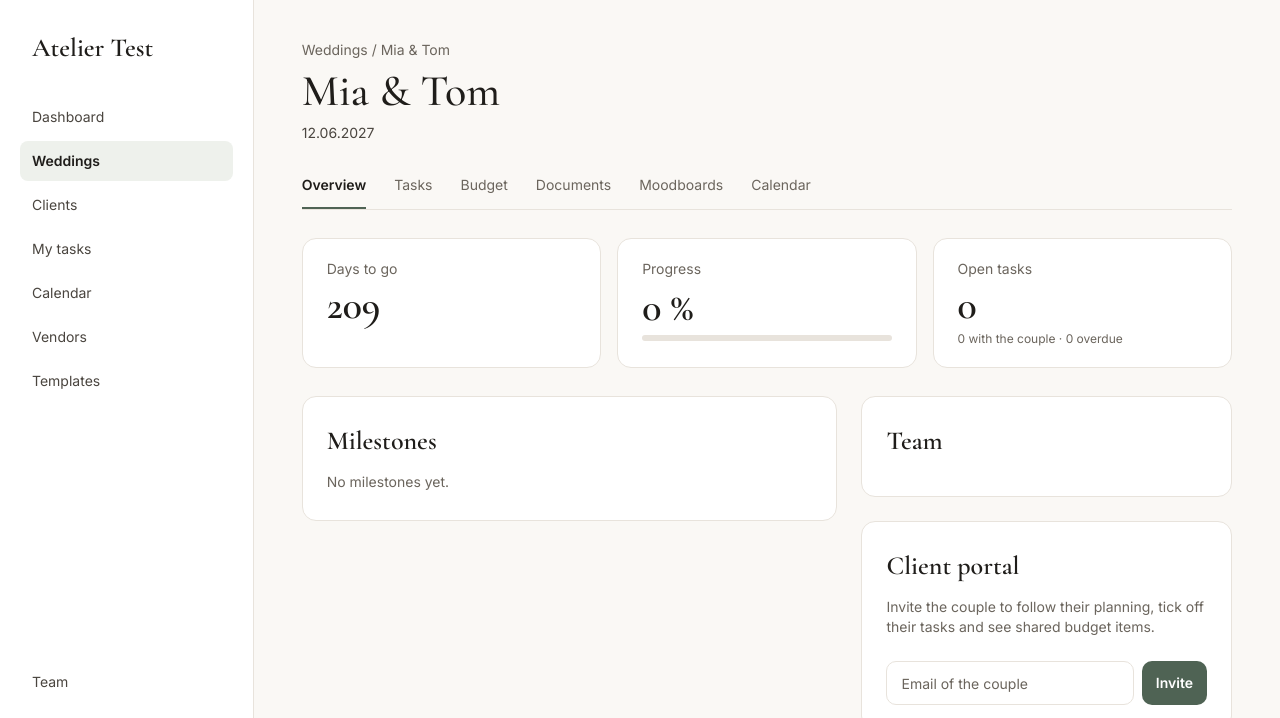
Test: invites the couple from the wedding overview
In the field labelled "Email of the couple": (1010, 683) [886, 661, 1134, 705], type "mia@example.com"
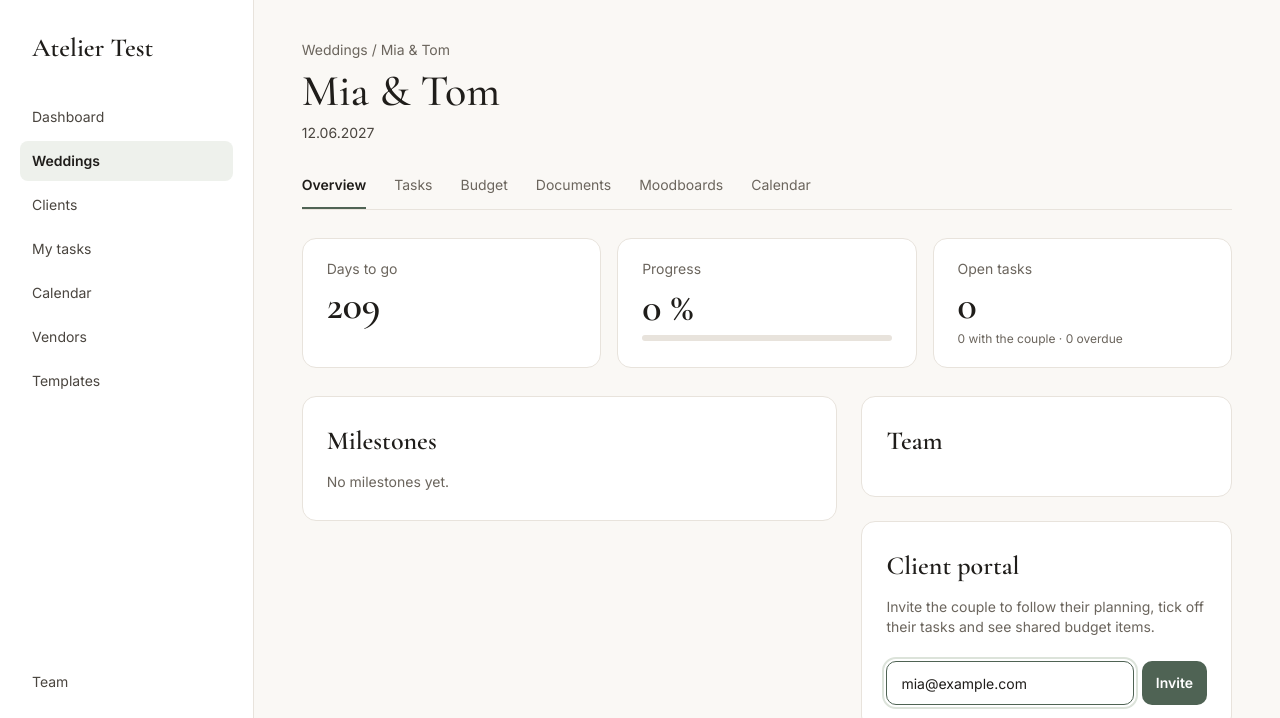
Click the button "Invite": (1174, 683) [1142, 661, 1207, 705]
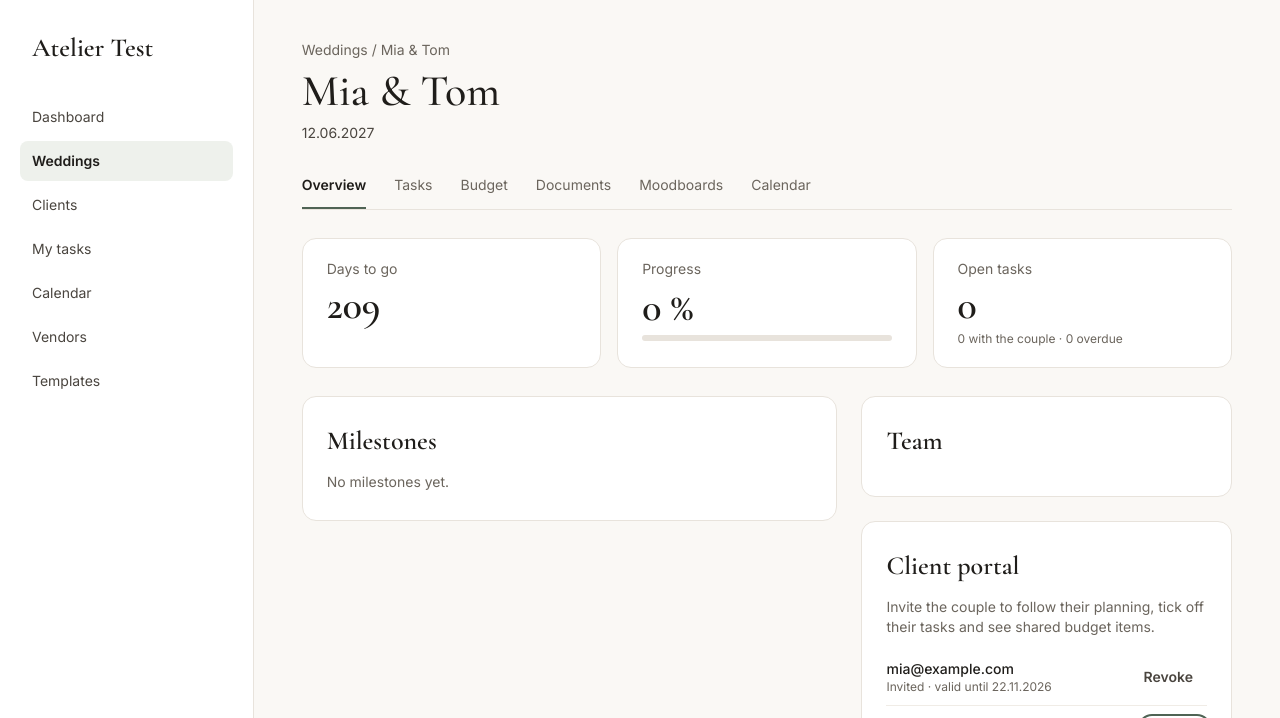
Expected: the text "Invited · valid until 22.11.2026" is shown, [886, 679, 1052, 695]
